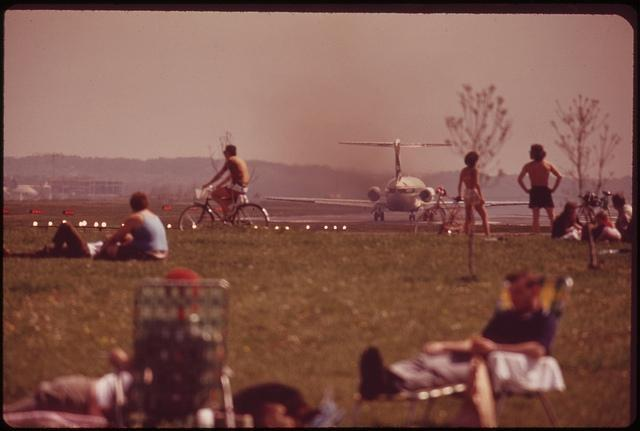bicycle: (178, 185, 270, 231), (412, 186, 466, 234)
